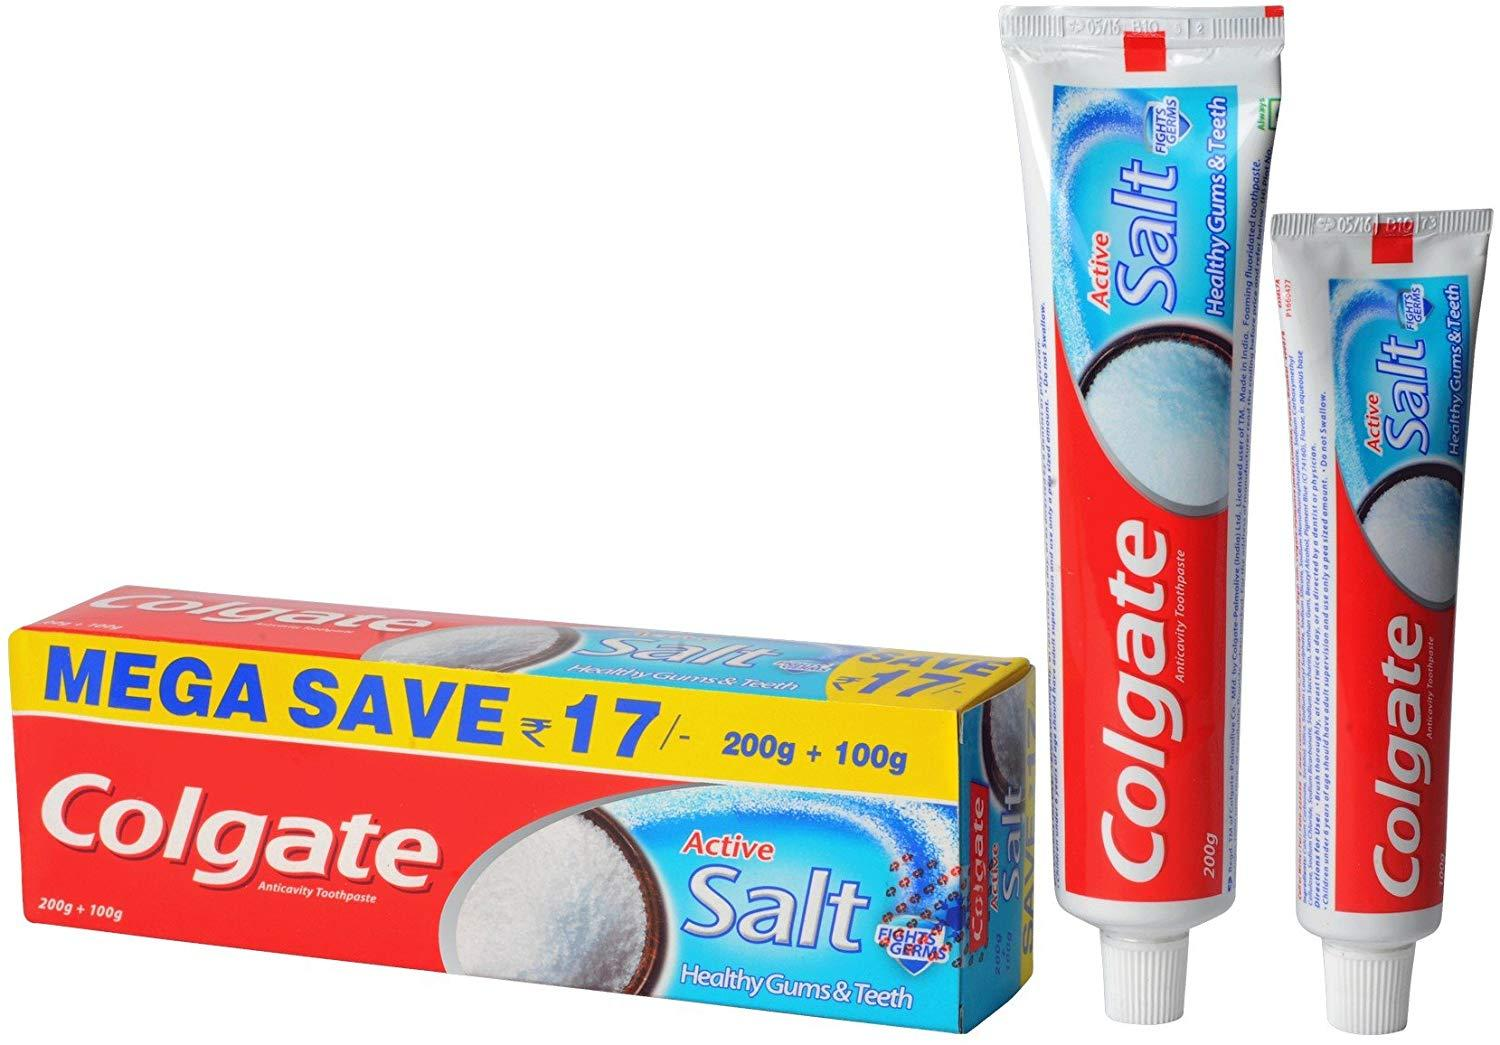toothpaste: (9, 565, 1043, 1037), (987, 1, 1287, 1021), (1263, 203, 1492, 1037)
